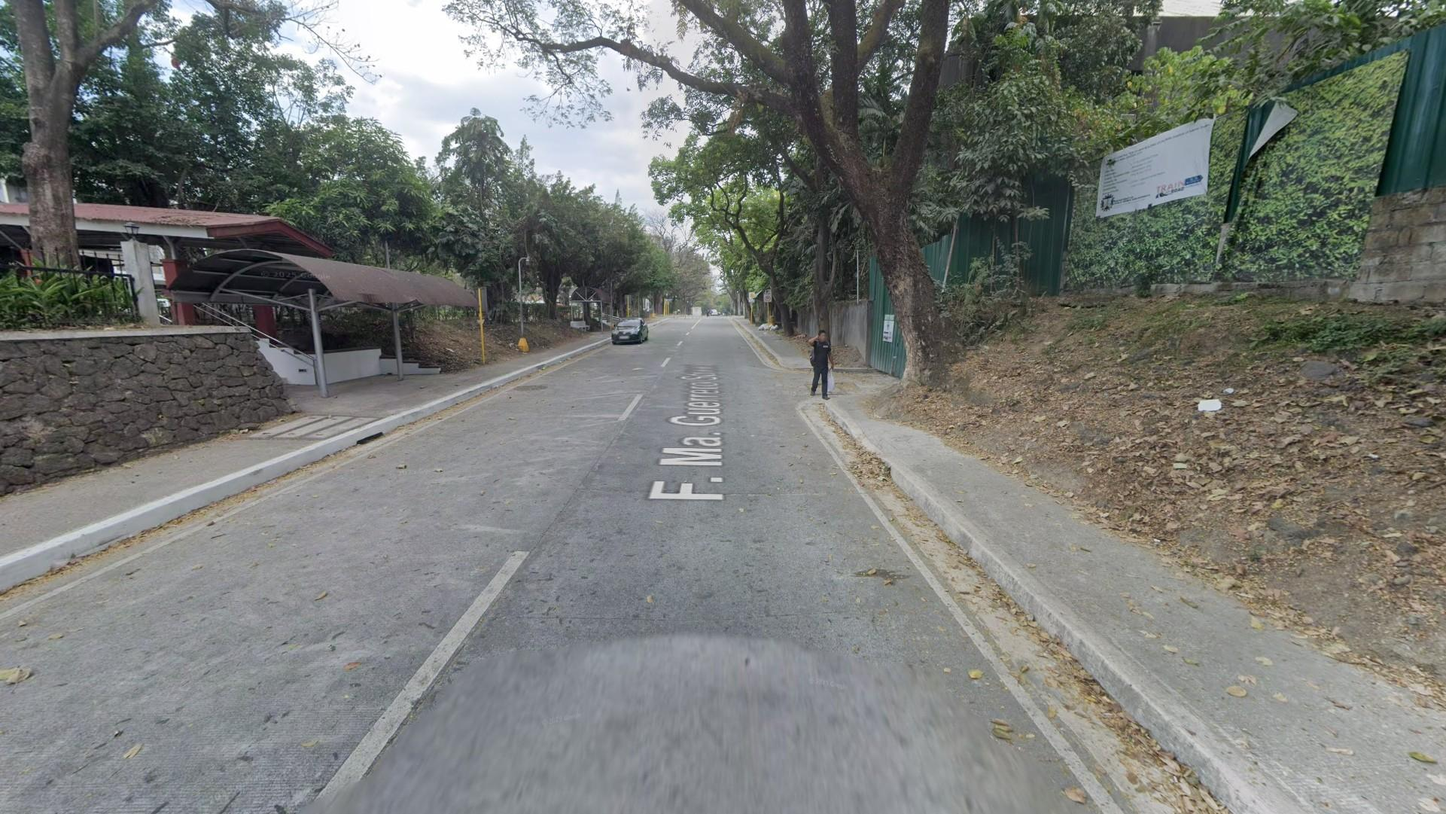pedestrian: (807, 329, 835, 402)
